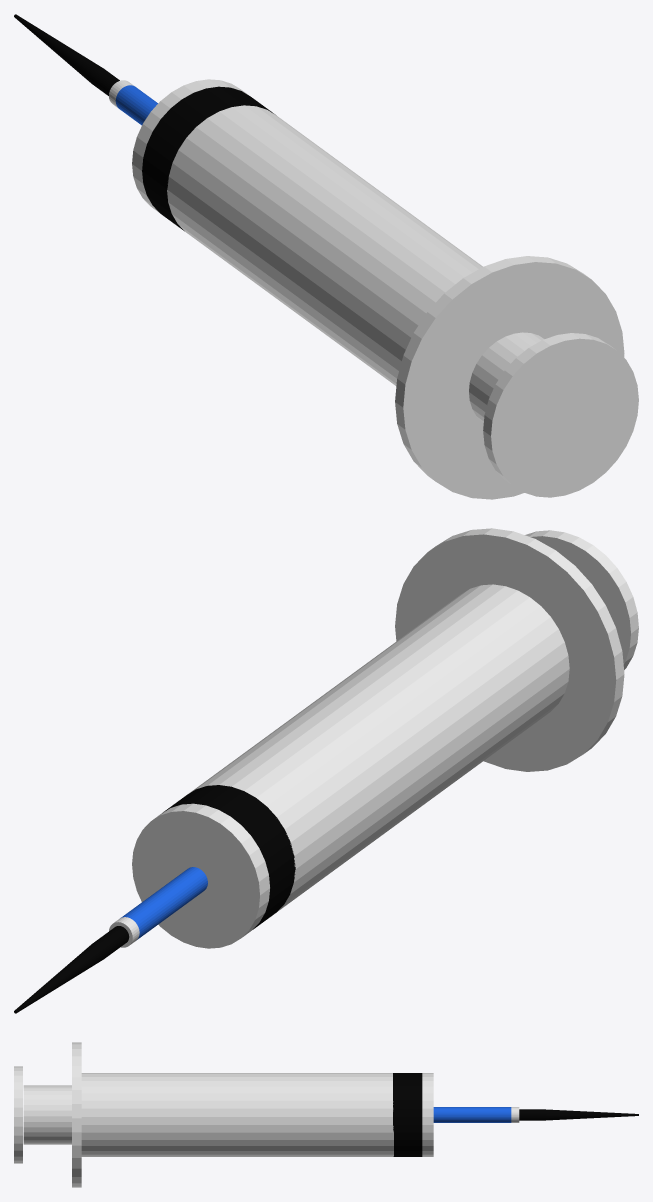
Rendered from syringe.fbx.
3 renders of one model, top to bottom at view 1: azimuth 30°, elevation 25°; view 2: azimuth 150°, elevation 25°; view 3: azimuth 270°, elevation 25°, orthographic. The views are drawn at different scales.
Visible parts, largest first — view 1: 圓柱體.003; view 2: 圓柱體.003; view 3: 圓柱體.003.
Part boxes in pixels (x1=…): 圓柱體.003: x1=14, y1=14, x2=638, y2=499; 圓柱體.003: x1=14, y1=528, x2=638, y2=1013; 圓柱體.003: x1=14, y1=1042, x2=638, y2=1187.
Size of the model in its own units: 36.01 by 36.01 by 155.
